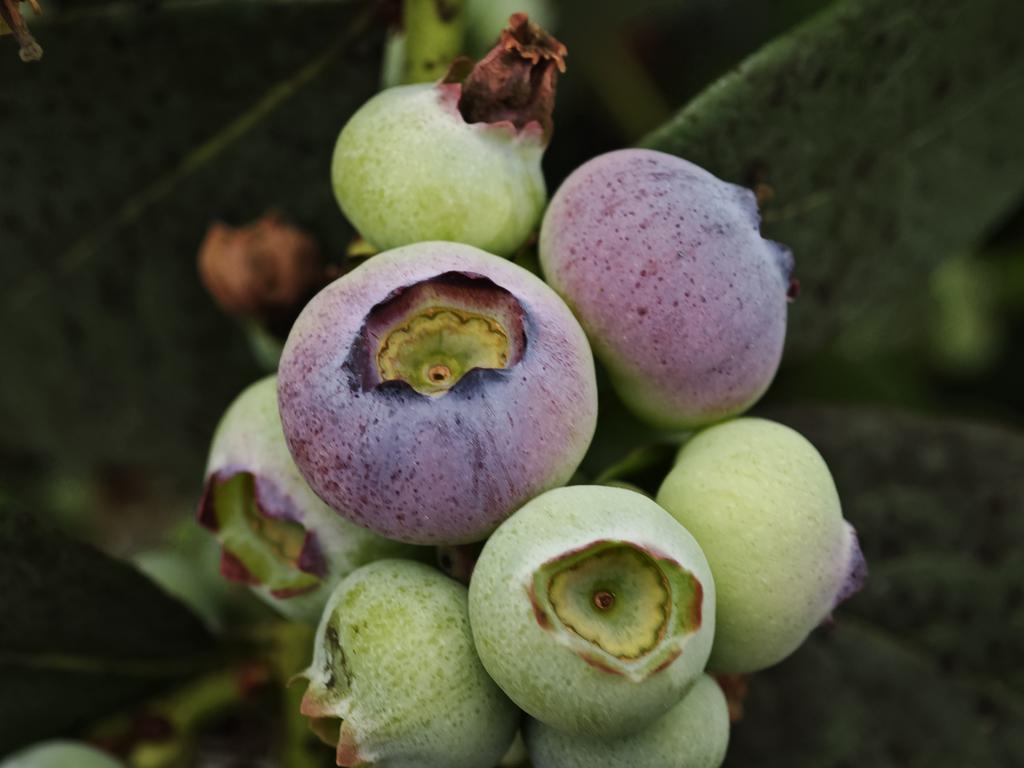Semi-RipeBlueBerry: (274, 235, 605, 550), (538, 144, 796, 429)
UnripeBlueBerry: (465, 479, 719, 743)
